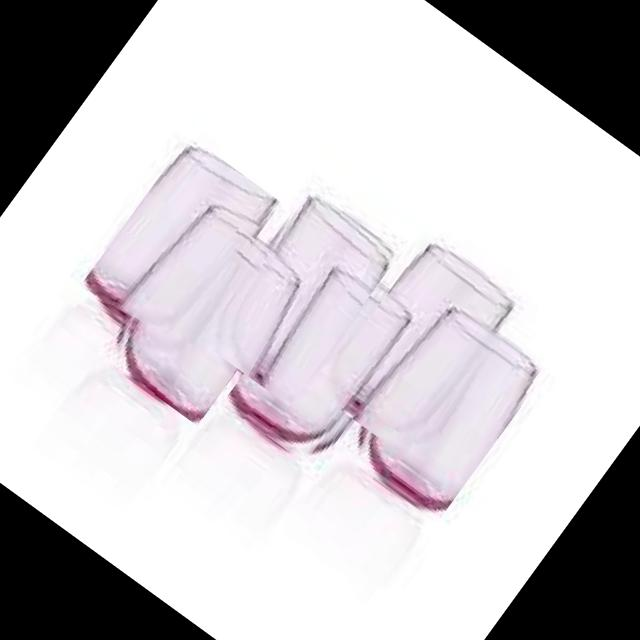Glass: (315, 232, 529, 462), (339, 297, 549, 523), (97, 202, 307, 426), (219, 248, 426, 473), (195, 184, 401, 406), (78, 136, 281, 355)
